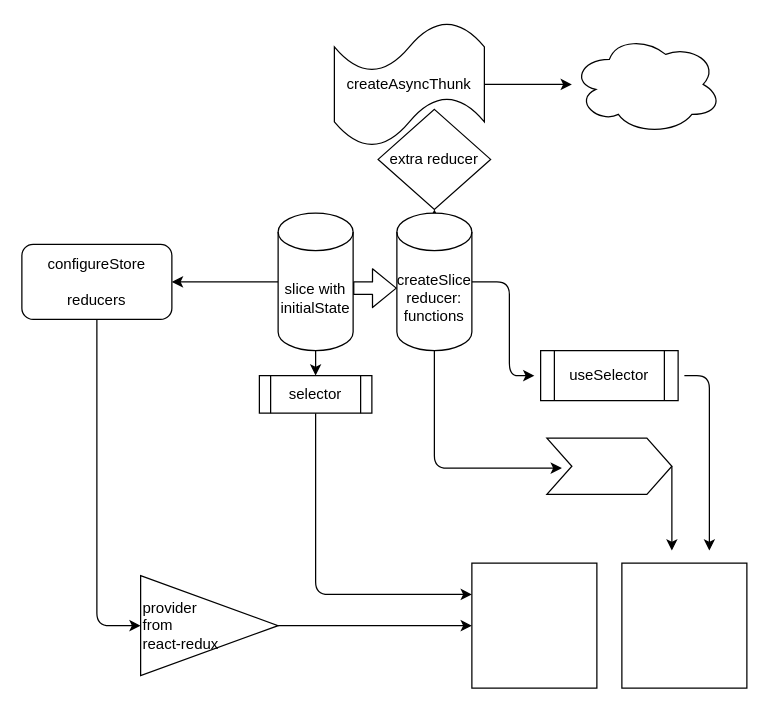
This 769x710 diagram has some shape labels left out. The shapes that lost their labels are listed below. From the top down, each one's centre as x and y in pixels, then its label:
pixel 646 83: api end
pixel 609 465: useDispatch
pixel 534 625: ui
pixel 684 625: featured ui
